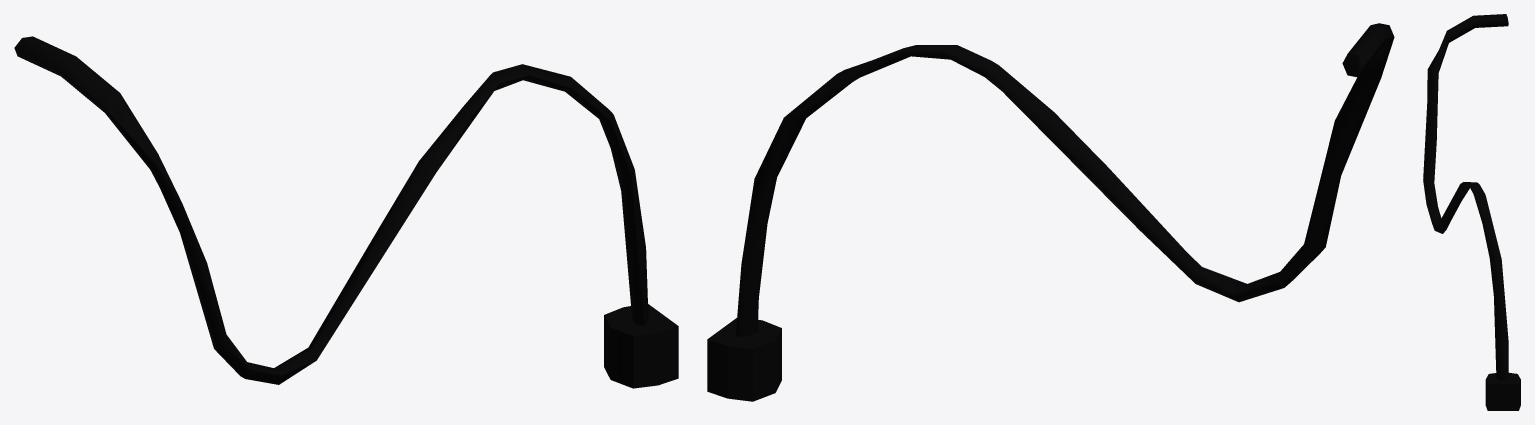
File: powercord2_lod2.fbx
3 views of the same model, side by side, from view 1: azimuth 30°, elevation 25°; view 2: azimuth 150°, elevation 25°; view 3: azimuth 270°, elevation 25° (orthographic). The views are drawn at different scales.
Visible parts, largest first — view 1: cord5, plug5; view 2: cord5, plug5; view 3: cord5, plug5.
Part boxes in pixels (x1,y1,x2,y2): cord5: [14, 36, 648, 384]; plug5: [604, 304, 678, 388]; cord5: [736, 23, 1394, 336]; plug5: [707, 318, 781, 401]; cord5: [1423, 14, 1508, 380]; plug5: [1485, 372, 1520, 410].
Bounding box in the file's own units: 1.58 × 1.13 × 0.4147.
